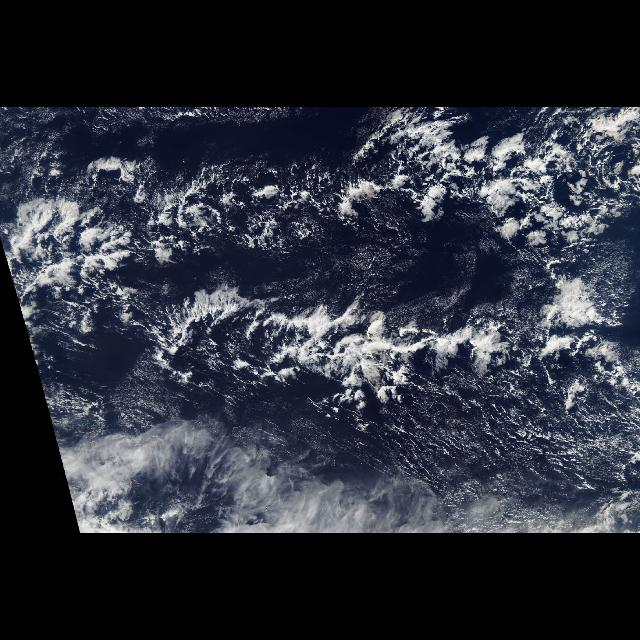Fish: (116, 146, 562, 412)
Gravel: (151, 176, 353, 242)
Sugar: (371, 403, 634, 487)
